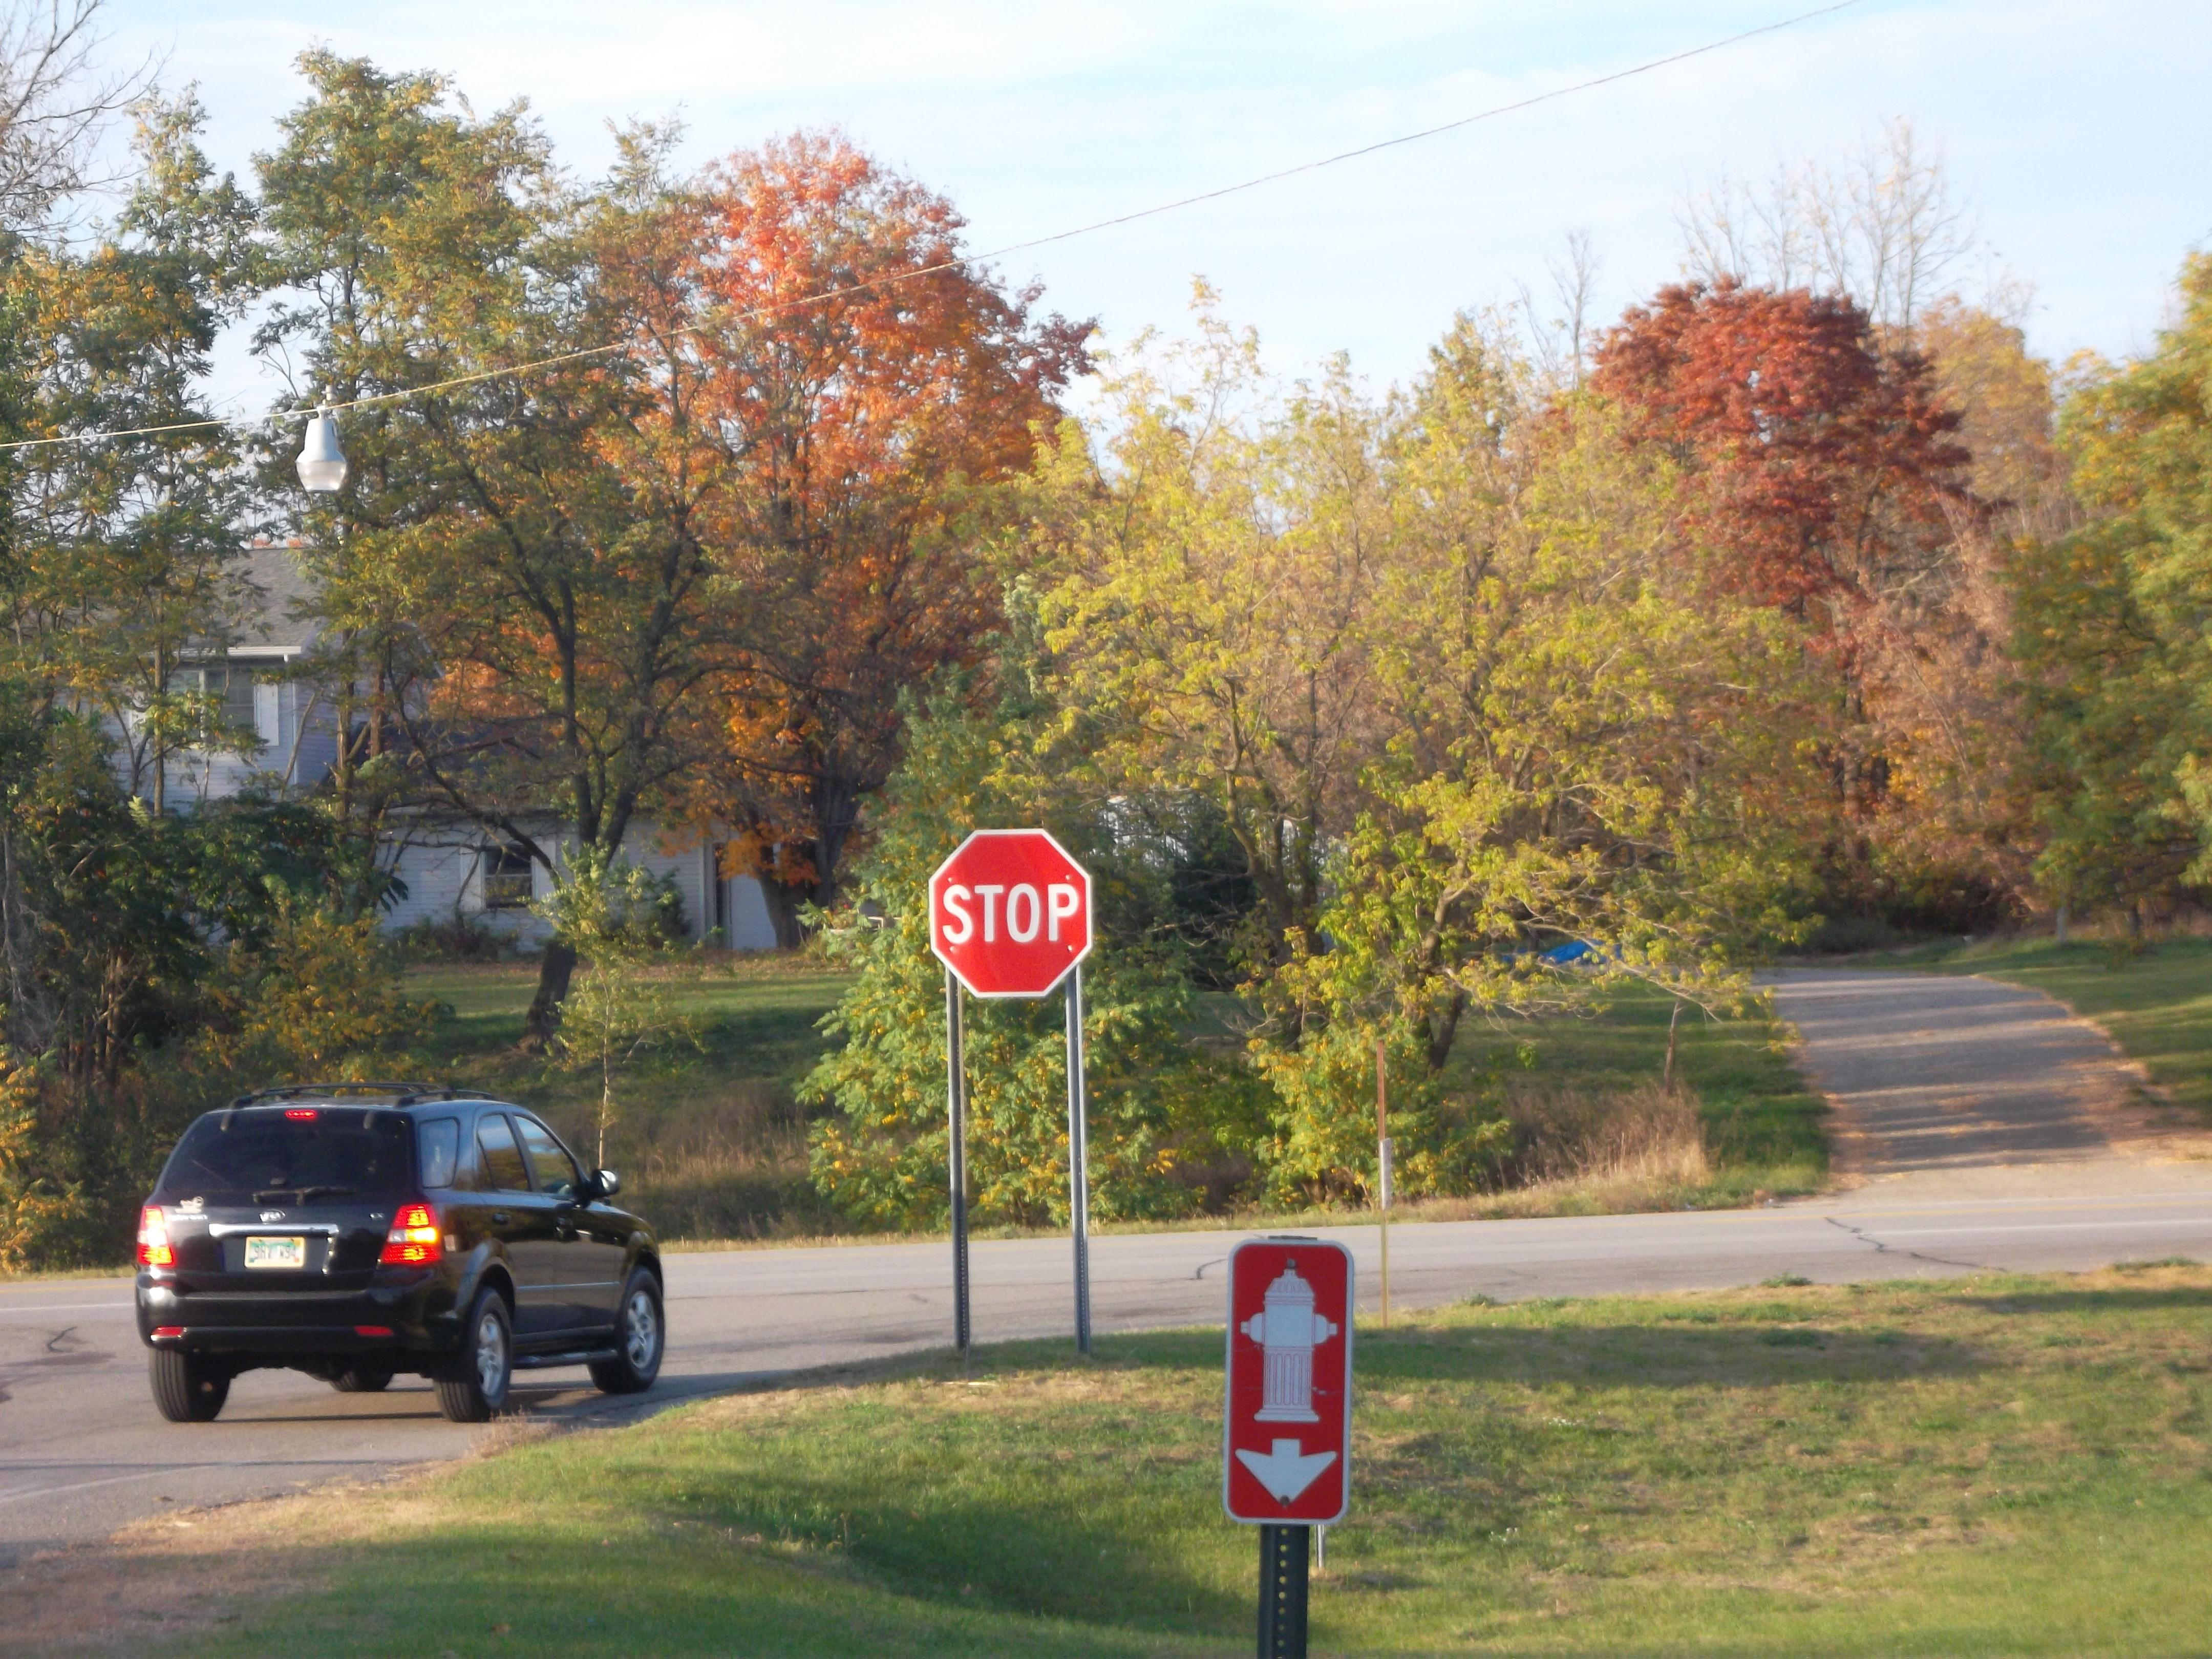stop: (907, 805, 1125, 1035)
